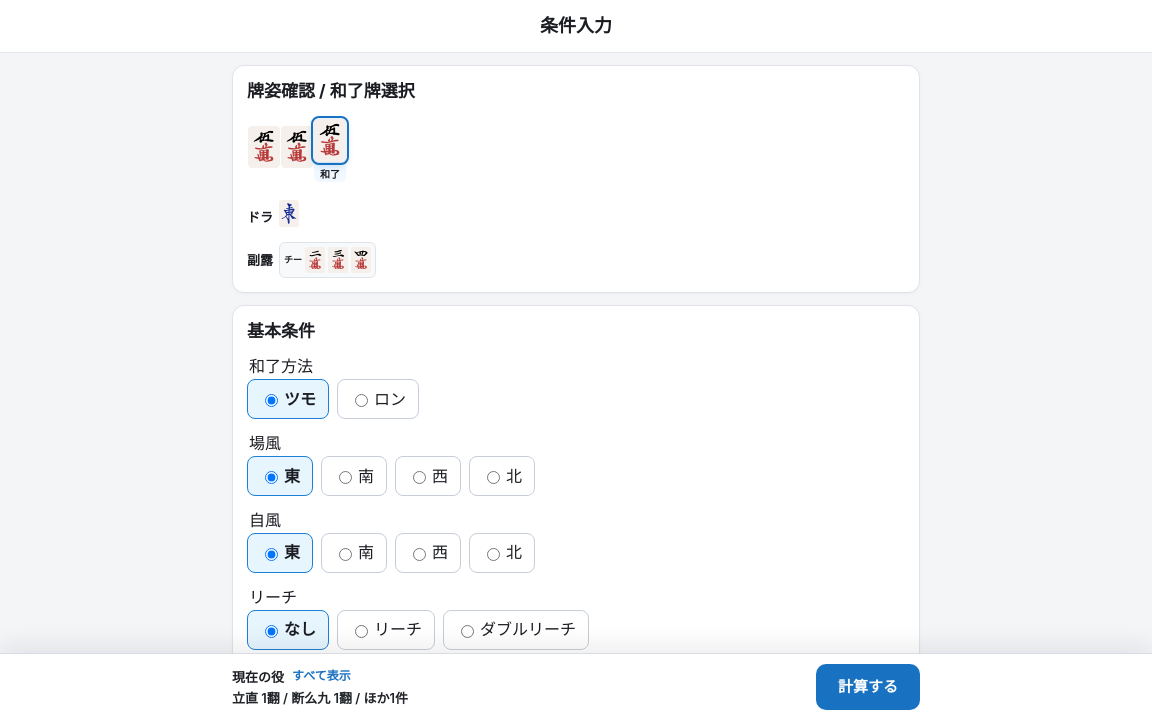
Test: ConditionsPageView › expands the full current-yaku list inside the persistent dock
Click the button "すべて表示": [321, 677] box [292, 667, 351, 686]
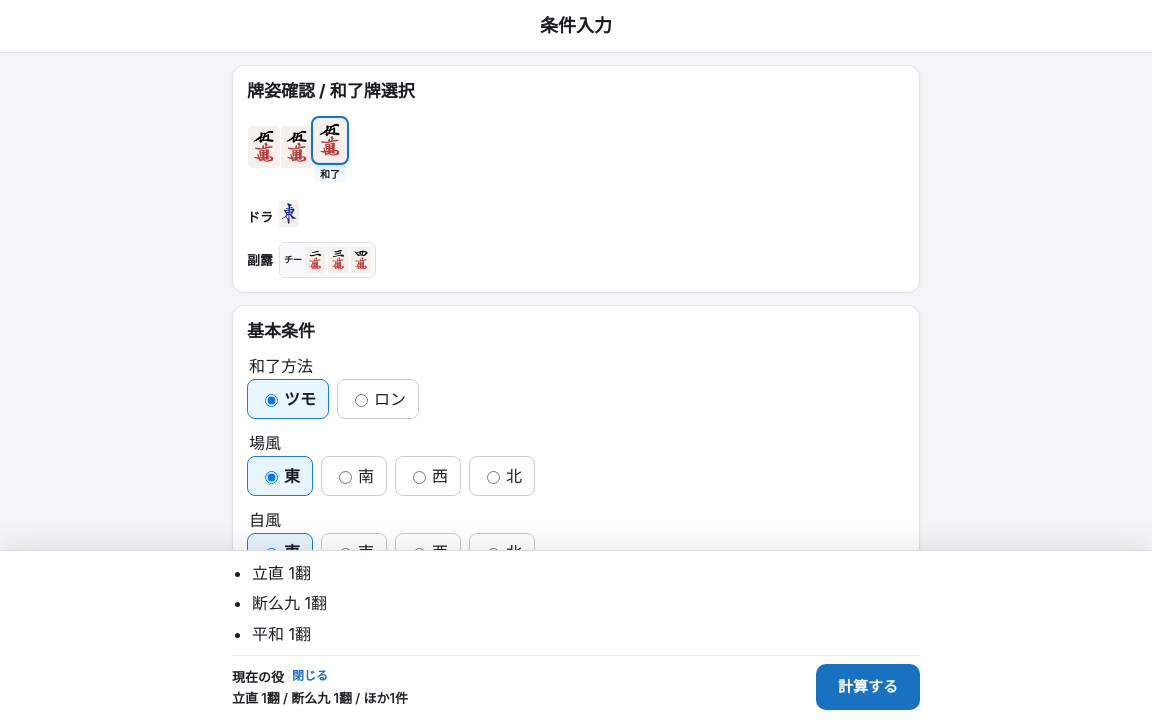
Result: the element named "現在の役一覧" shows "立直 1翻" at [232, 561, 920, 656]
Result: the element named "現在の役一覧" shows "断么九 1翻" at [232, 561, 920, 656]
Result: the element named "現在の役一覧" shows "平和 1翻" at [232, 561, 920, 656]
